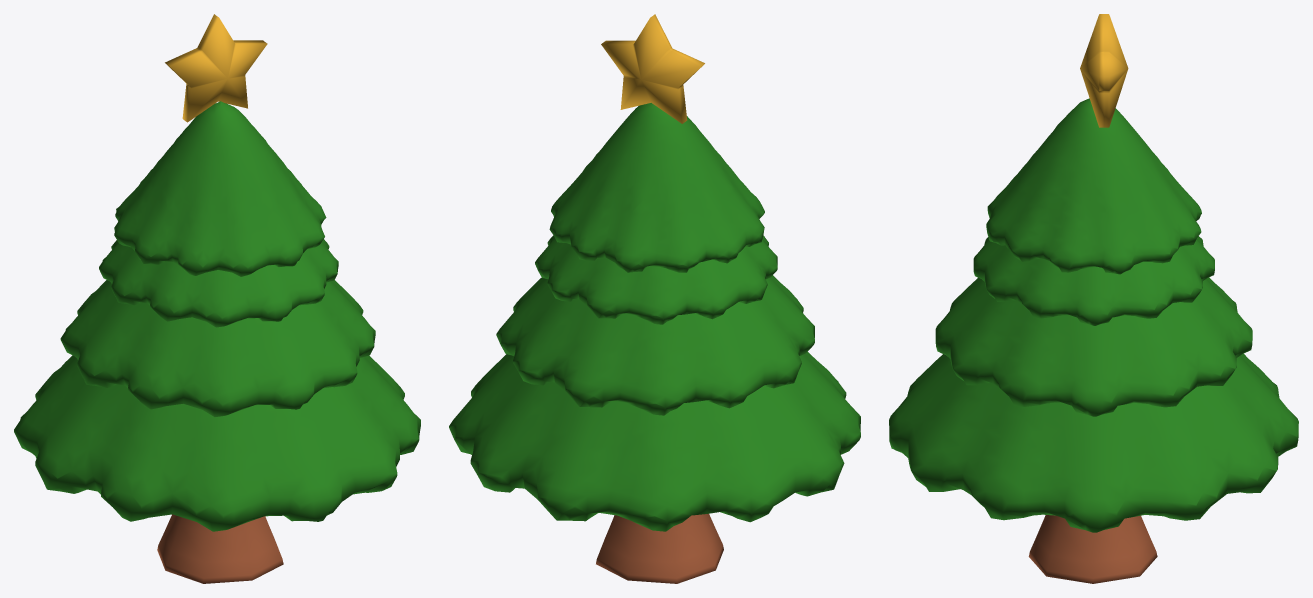
Rendered from tree2.glb.
3 views of the same model, side by side, from view 1: azimuth 30°, elevation 25°; view 2: azimuth 150°, elevation 25°; view 3: azimuth 270°, elevation 25° (orthographic).
Visible parts, largest first — view 1: Cube.001; view 2: Cube.001; view 3: Cube.001.
Boxes of the visible parts, box(x1,y1,x2,y2) form: Cube.001: box(14, 14, 420, 583); Cube.001: box(449, 14, 860, 583); Cube.001: box(889, 14, 1298, 583).
Size of the model in its own units: 1.35 by 1.99 by 1.36.
